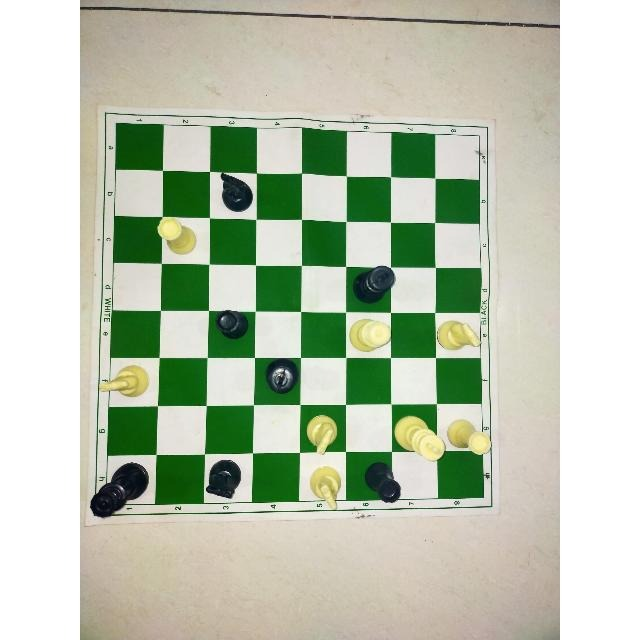black-king: (354, 263, 400, 310), (257, 357, 303, 401)
black-knight: (202, 452, 246, 503), (213, 170, 259, 218)
black-queen: (89, 459, 151, 518)
black-rook: (358, 462, 403, 504), (210, 304, 252, 346)
white-king: (391, 407, 446, 466)
white-knight: (95, 361, 153, 402), (304, 462, 346, 511), (435, 314, 481, 356), (302, 412, 341, 458)
white-queen: (346, 313, 396, 361)
white-rook: (154, 210, 203, 262), (444, 415, 496, 463)
